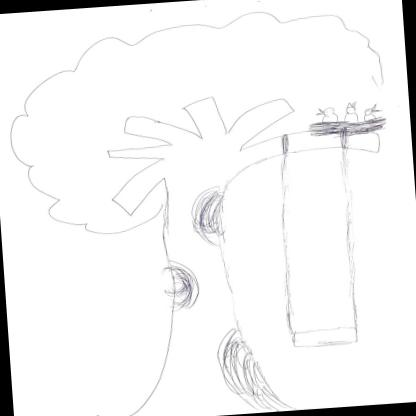bird: (310, 101, 387, 139)
branch_cut: (101, 93, 300, 217)
crown_cloud: (4, 4, 393, 240)
knot: (214, 326, 288, 414), (188, 186, 230, 247), (164, 258, 202, 313)
trunk_straight: (154, 220, 252, 362)
